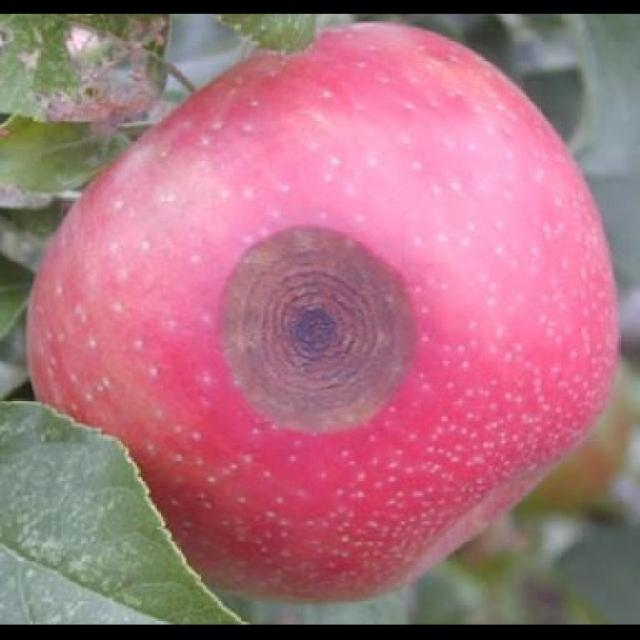Rotten Apple: (25, 20, 623, 608)
